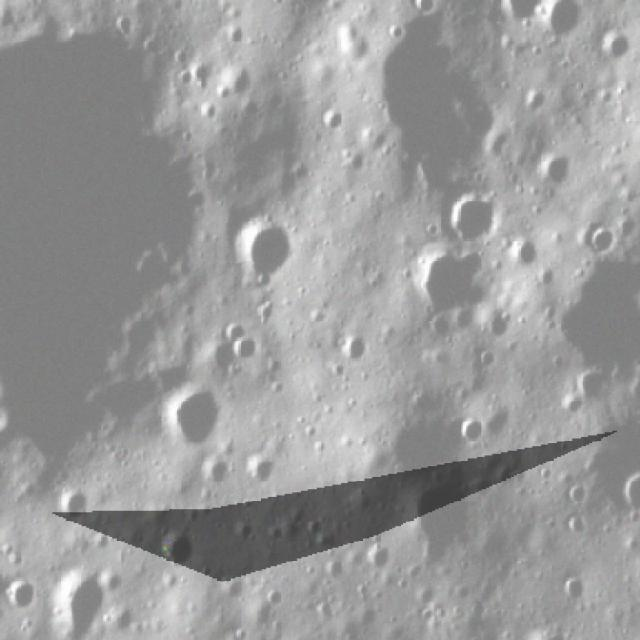crater: (363, 7, 494, 201), (365, 387, 469, 484), (409, 247, 498, 336), (410, 473, 485, 572), (221, 207, 296, 296), (158, 382, 238, 448), (56, 561, 116, 639), (437, 193, 508, 252), (153, 529, 204, 576), (541, 1, 588, 52), (533, 147, 578, 196), (577, 218, 625, 260), (245, 446, 282, 496), (213, 63, 258, 103), (576, 366, 619, 405), (54, 482, 92, 526), (515, 234, 554, 275), (3, 575, 40, 616), (356, 544, 396, 581), (558, 569, 592, 609), (519, 86, 556, 122), (313, 106, 345, 146), (336, 329, 370, 366), (228, 331, 263, 366), (317, 555, 351, 590), (460, 414, 492, 448), (599, 31, 633, 63), (225, 520, 258, 546), (555, 394, 587, 418), (565, 513, 590, 542), (262, 582, 288, 609), (569, 486, 594, 508)
